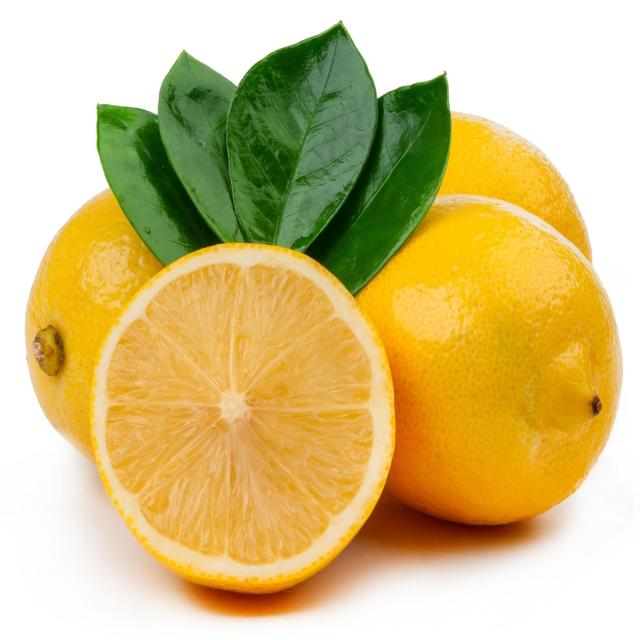lemon: (83, 237, 402, 599), (331, 188, 631, 532)
